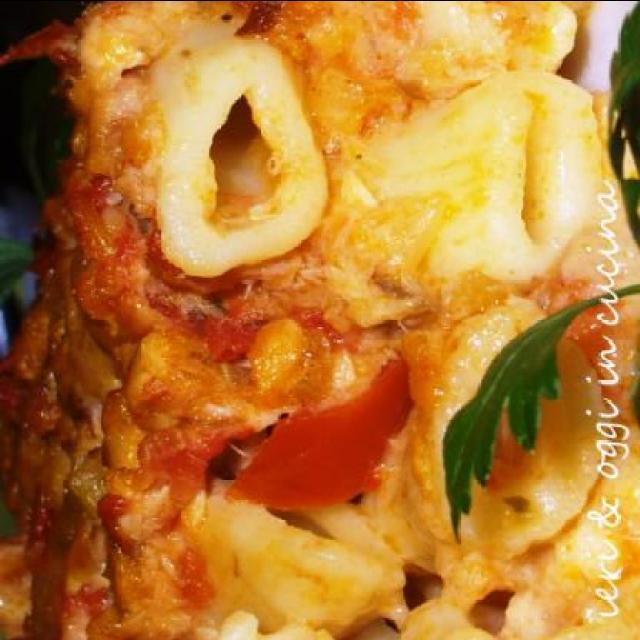Pasta al ragu: (21, 1, 582, 632)
